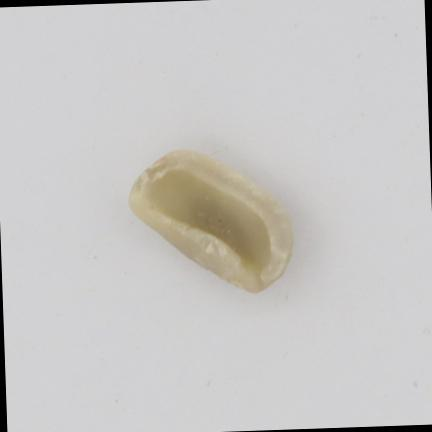shell: (130, 151, 292, 291)
